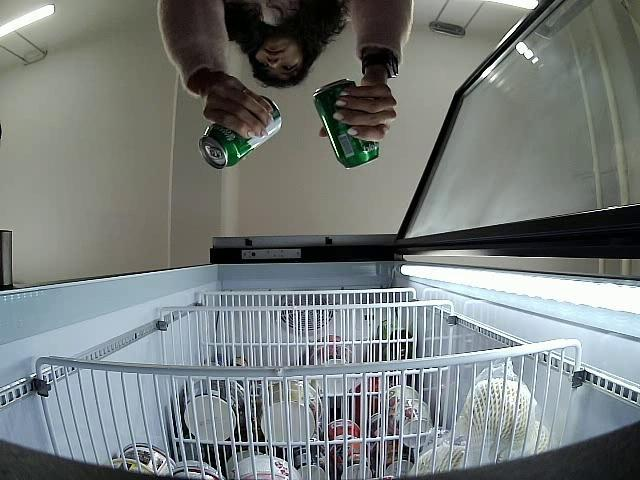12_chilsungCider: (314, 78, 381, 170), (198, 96, 280, 168)
